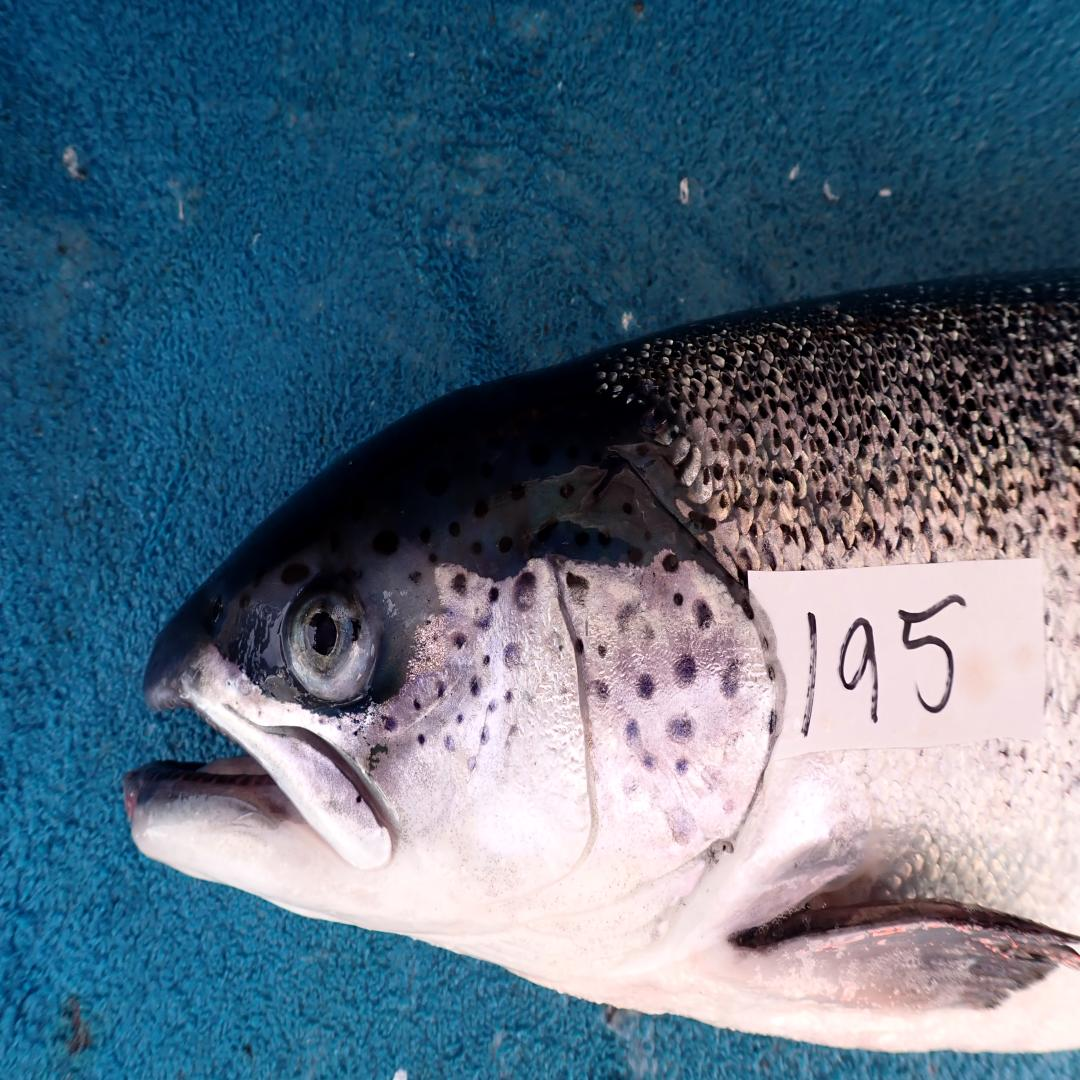roi: (383, 548, 783, 997)
